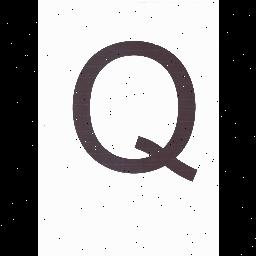q: (64, 34, 212, 188)
